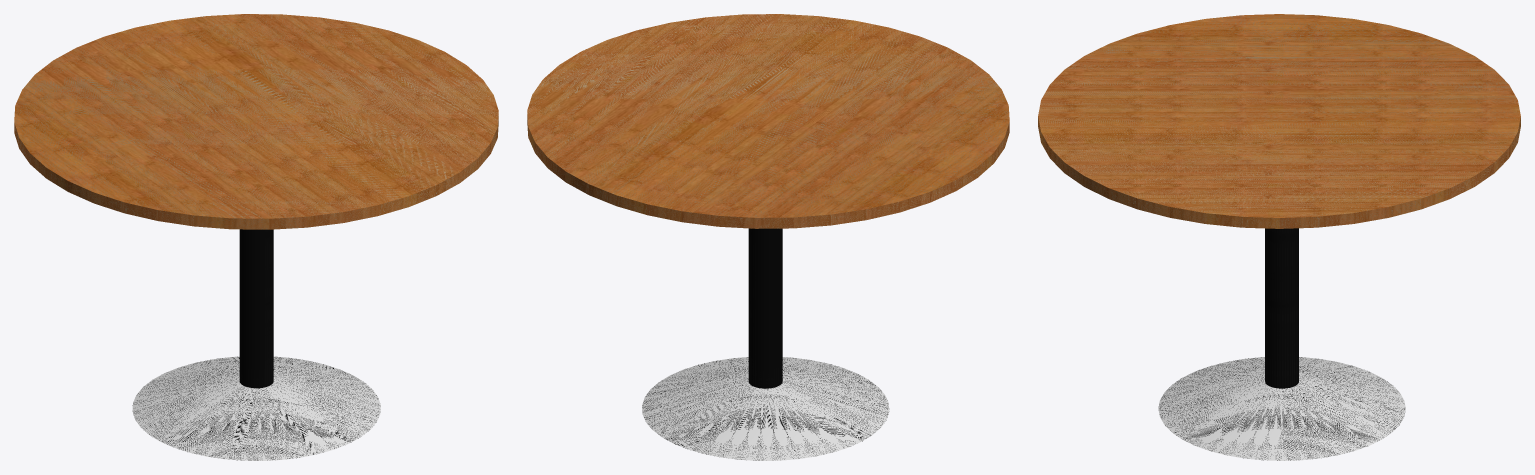
File: round_table.dae
The picture shows the model from 3 angles, left to right: view 1: azimuth 30°, elevation 25°; view 2: azimuth 150°, elevation 25°; view 3: azimuth 270°, elevation 25°; orthographic projection.
Parts seen in each view (by area): view 1: group_1, Agrupar_9.001, Agrupar_8; view 2: group_1, Agrupar_9.001, Agrupar_8; view 3: group_1, Agrupar_9.001, Agrupar_8.
Part boxes in pixels (x1,y1,x2,y2): group_1: (14, 14, 498, 229); Agrupar_9.001: (132, 356, 380, 460); Agrupar_8: (239, 229, 273, 388); group_1: (527, 14, 1009, 228); Agrupar_9.001: (642, 357, 889, 460); Agrupar_8: (748, 228, 782, 388); group_1: (1038, 14, 1520, 228); Agrupar_9.001: (1158, 357, 1405, 460); Agrupar_8: (1265, 228, 1298, 388).
Bounding box in the file's own units: 1.09 × 1.09 × 0.7286.
Materials: 5 (4 with a texture image).
